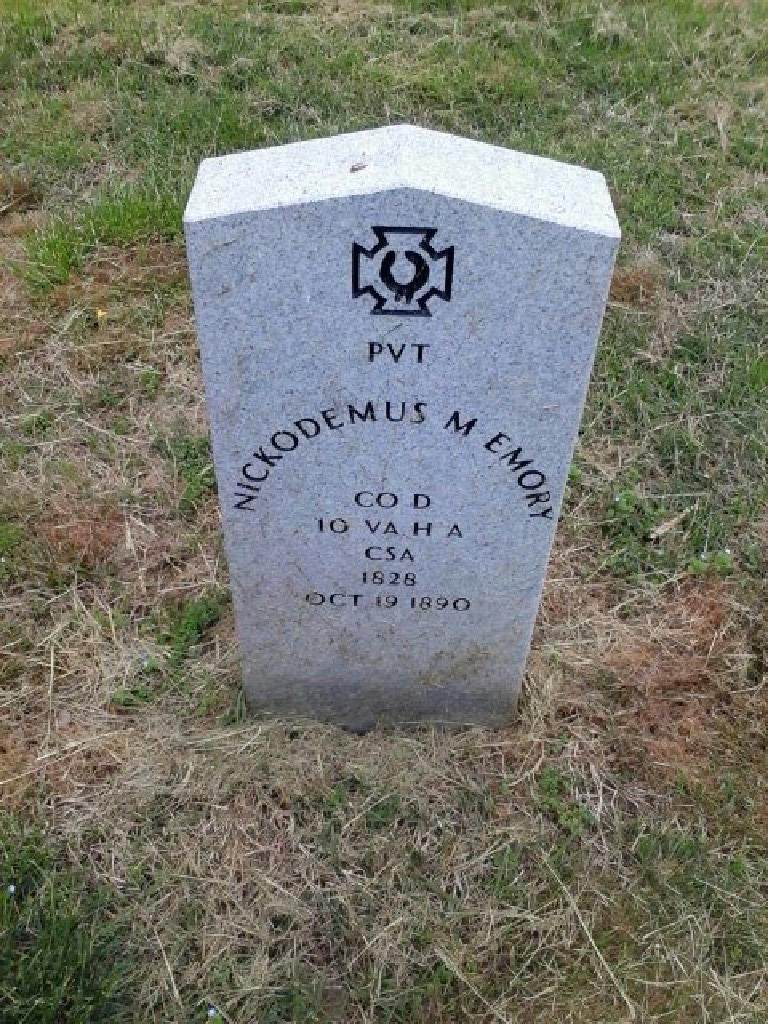military: (188, 122, 621, 730)
